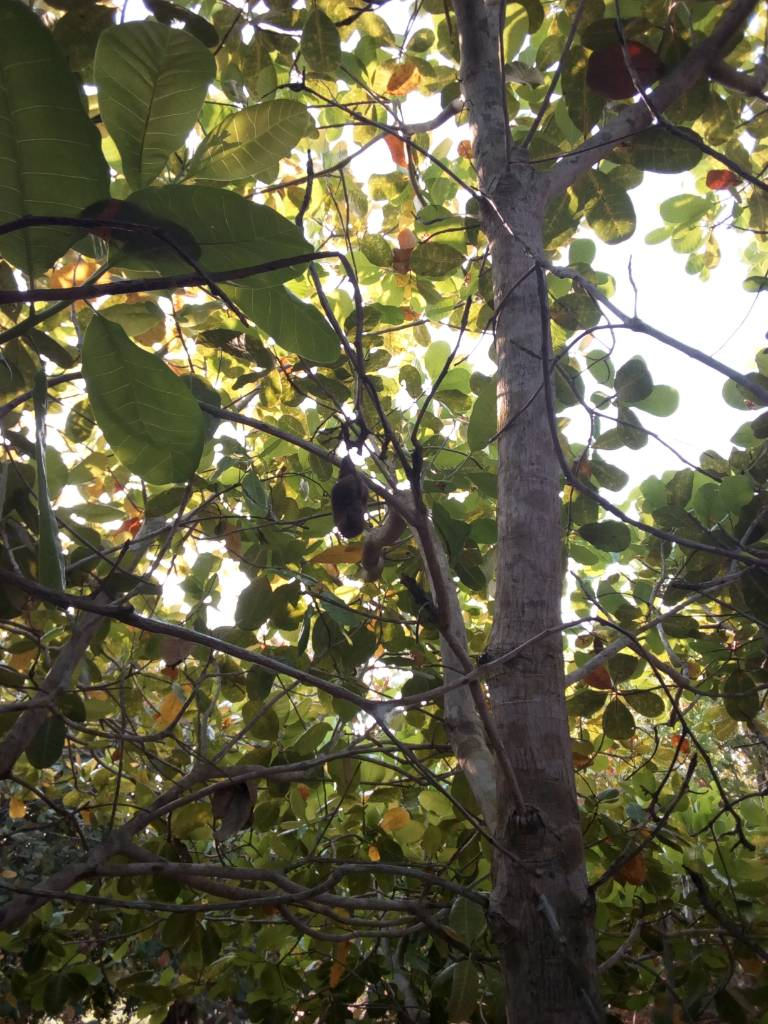Die-black: (321, 446, 376, 546)
